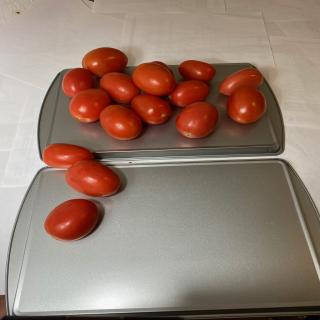Chilli: (61, 46, 267, 140)
Tomato: (44, 198, 99, 242), (65, 160, 120, 197), (226, 87, 267, 124), (176, 102, 218, 138), (99, 105, 142, 140), (132, 62, 176, 96), (69, 88, 111, 123), (82, 47, 128, 77), (42, 143, 94, 169), (100, 72, 140, 104), (219, 68, 264, 96), (131, 94, 171, 125), (167, 80, 210, 107), (62, 68, 94, 98), (178, 60, 216, 83), (150, 60, 174, 76)
